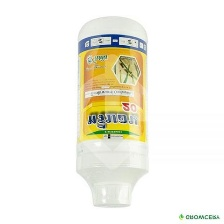insecticide: (71, 13, 151, 215)
